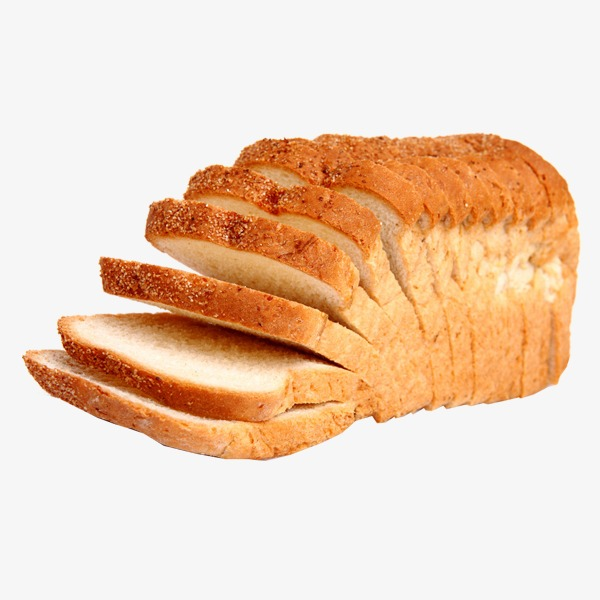slice of bread: (18, 126, 590, 467), (19, 315, 372, 469)
